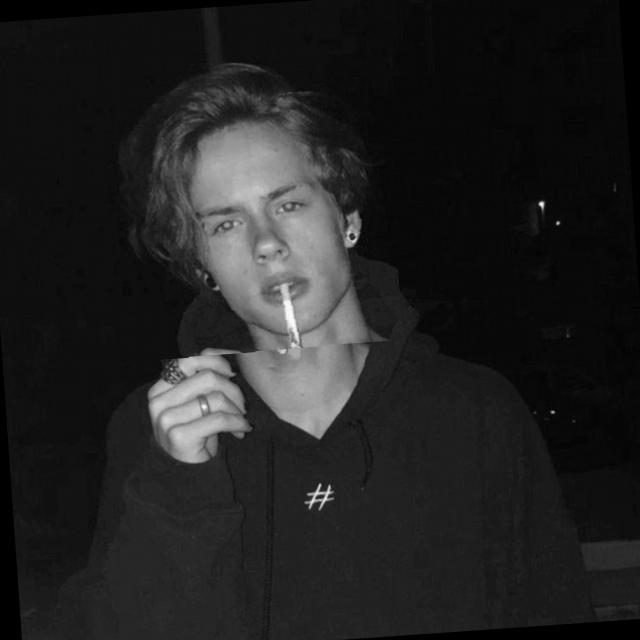cigarette: (247, 272, 301, 368)
